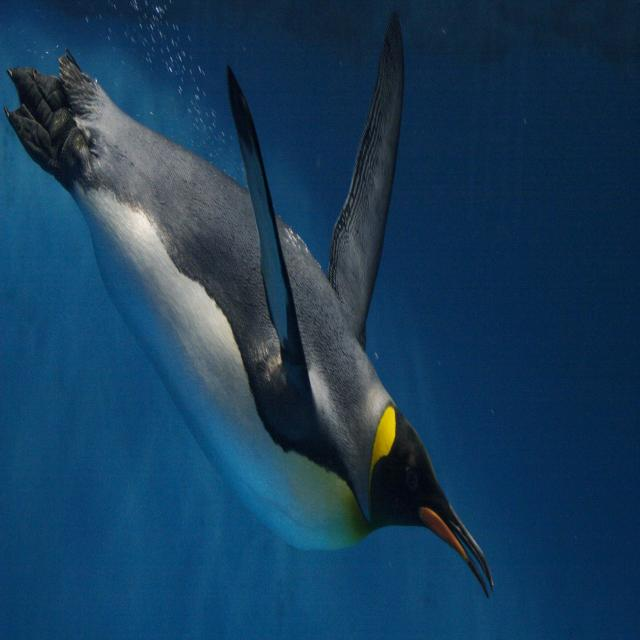penguin: (6, 15, 493, 596)
